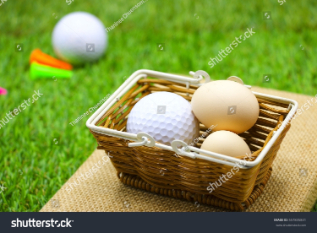ball: (125, 85, 201, 154), (42, 4, 114, 69)
egg: (187, 73, 262, 135), (197, 128, 258, 166)
